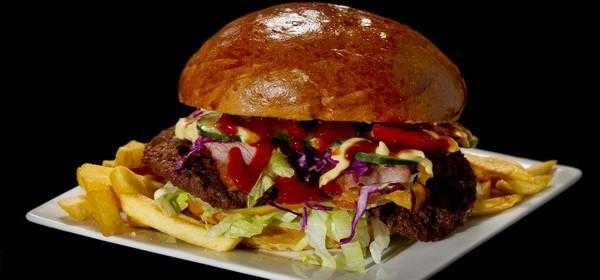hamburger: (153, 9, 499, 208)
